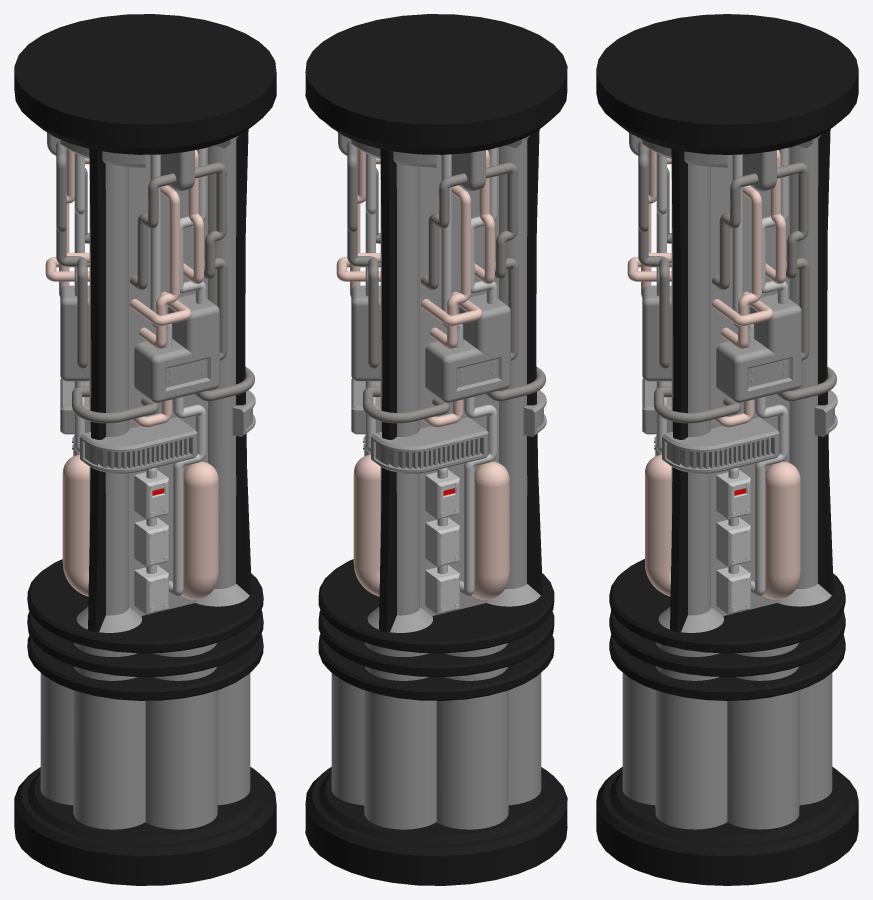
The model's file is Pillar_1.fbx.
3 renders of one model, left to right at view 1: azimuth 30°, elevation 25°; view 2: azimuth 150°, elevation 25°; view 3: azimuth 270°, elevation 25°, orthographic.
Visible parts, largest first — view 1: Frame, Core, Body7, Body23, Body20, Body18, Body67, Body61, Body17, Body14, Body55, Body11 (+14 smaller); view 2: Frame, Core, Body55, Body67, Body66, Body65, Body44, Body50, Body64, Body61, Body40, Body59 (+14 smaller); view 3: Frame, Core, Body40, Body44, Body43, Body47, Body23, Body14, Body50, Body53, Body7, Body54 (+14 smaller).
Part boxes in pixels (x1,y1,x2,y2): Frame: (14,14,276,885); Core: (40,135,250,829); Body7: (134,293,219,402); Body23: (181,461,218,599); Body20: (134,467,168,614); Body18: (80,417,197,473); Body67: (62,454,89,596); Body61: (56,141,87,368); Body17: (169,396,206,596); Body14: (195,162,227,360); Body55: (60,285,89,381); Body11: (139,185,179,349); Frame: (305,14,567,885); Core: (331,135,541,829); Body55: (425,293,510,402); Body67: (472,461,509,599); Body66: (425,467,459,614); Body65: (371,417,488,473); Body44: (353,454,380,596); Body50: (347,141,378,368); Body64: (460,396,497,596); Body61: (486,162,518,360); Body40: (351,285,380,381); Body59: (430,185,470,349); Frame: (596,14,858,885); Core: (622,135,832,829); Body40: (716,293,801,402); Body44: (763,461,800,599); Body43: (716,467,750,614); Body47: (662,417,779,473); Body23: (645,454,671,596); Body14: (638,141,669,368); Body50: (777,162,809,360); Body53: (751,396,788,596); Body7: (642,285,671,381); Body54: (721,185,761,349).
Bounding box in the file's own units: 100 × 320 × 100.
